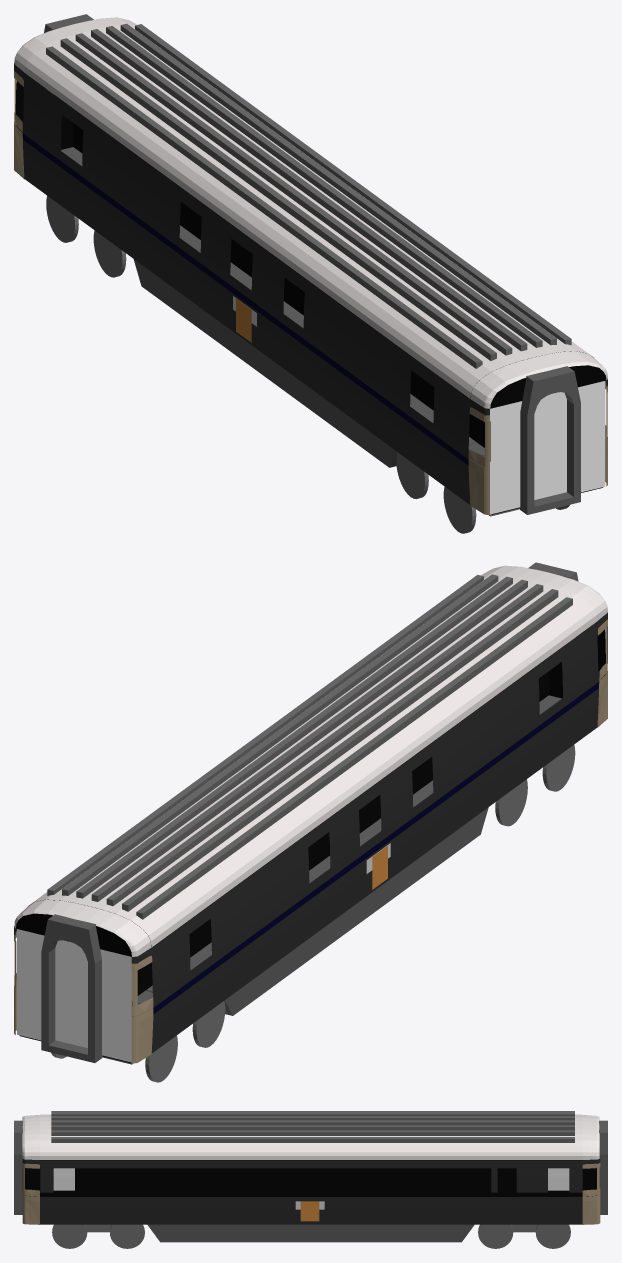
File: br-mk3-sle-gc1.dae
3 views of the same model, one above another, from view 1: azimuth 30°, elevation 25°; view 2: azimuth 150°, elevation 25°; view 3: azimuth 270°, elevation 25° (orthographic). The views are drawn at different scales.
Parts seen in each view (by area): view 1: Suzanne_001, Plane_007, Plane_001, Cube_010, Cube, Cube_011, Cube_008, Cube_009, Cube_004, Cube_002, Tube_003, Plane_044 (+19 smaller); view 2: Suzanne_001, Plane_007, Plane_100, Cube, Cube_010, Cube_011, Cube_008, Cube_009, Cube_004, Cube_002, Tube_002, Plane_044 (+19 smaller); view 3: Plane_041, Plane_134, Suzanne_001, Cube, Cube_002, Cube_003, Cube_004, Cube_008, Plane_135, Plane_136, Cube_009, Cube_010 (+20 smaller).
Part boxes in pixels (x1,y1,x2,y2): Suzanne_001: [24, 24, 593, 398]; Plane_007: [23, 140, 470, 504]; Plane_001: [490, 381, 605, 514]; Cube_010: [60, 38, 496, 360]; Cube: [133, 259, 396, 467]; Cube_011: [46, 46, 482, 368]; Cube_008: [91, 29, 527, 351]; Cube_009: [75, 33, 512, 355]; Cube_004: [106, 26, 542, 347]; Cube_002: [120, 23, 556, 345]; Tube_003: [520, 366, 580, 514]; Plane_044: [22, 123, 468, 459]; Suzanne_001: [28, 573, 596, 947]; Plane_007: [151, 688, 598, 1053]; Plane_100: [17, 929, 132, 1062]; Cube: [224, 807, 488, 1015]; Cube_010: [122, 589, 558, 911]; Cube_011: [136, 597, 572, 919]; Cube_008: [91, 579, 527, 901]; Cube_009: [106, 584, 543, 906]; Cube_004: [76, 576, 512, 898]; Cube_002: [62, 574, 498, 895]; Tube_002: [41, 914, 102, 1062]; Plane_044: [153, 671, 599, 1007]; Plane_041: [25, 1159, 596, 1196]; Plane_134: [40, 1201, 582, 1224]; Suzanne_001: [40, 1114, 582, 1159]; Cube: [147, 1224, 474, 1242]; Cube_002: [51, 1130, 574, 1135]; Cube_003: [51, 1137, 574, 1142]; Cube_004: [51, 1125, 574, 1130]; Cube_008: [51, 1120, 574, 1125]; Plane_135: [40, 1160, 582, 1164]; Plane_136: [40, 1164, 582, 1168]; Cube_009: [51, 1116, 574, 1120]; Cube_010: [51, 1112, 574, 1116].
Bounding box in the file's own units: 2.14 × 13.39 × 2.81.
